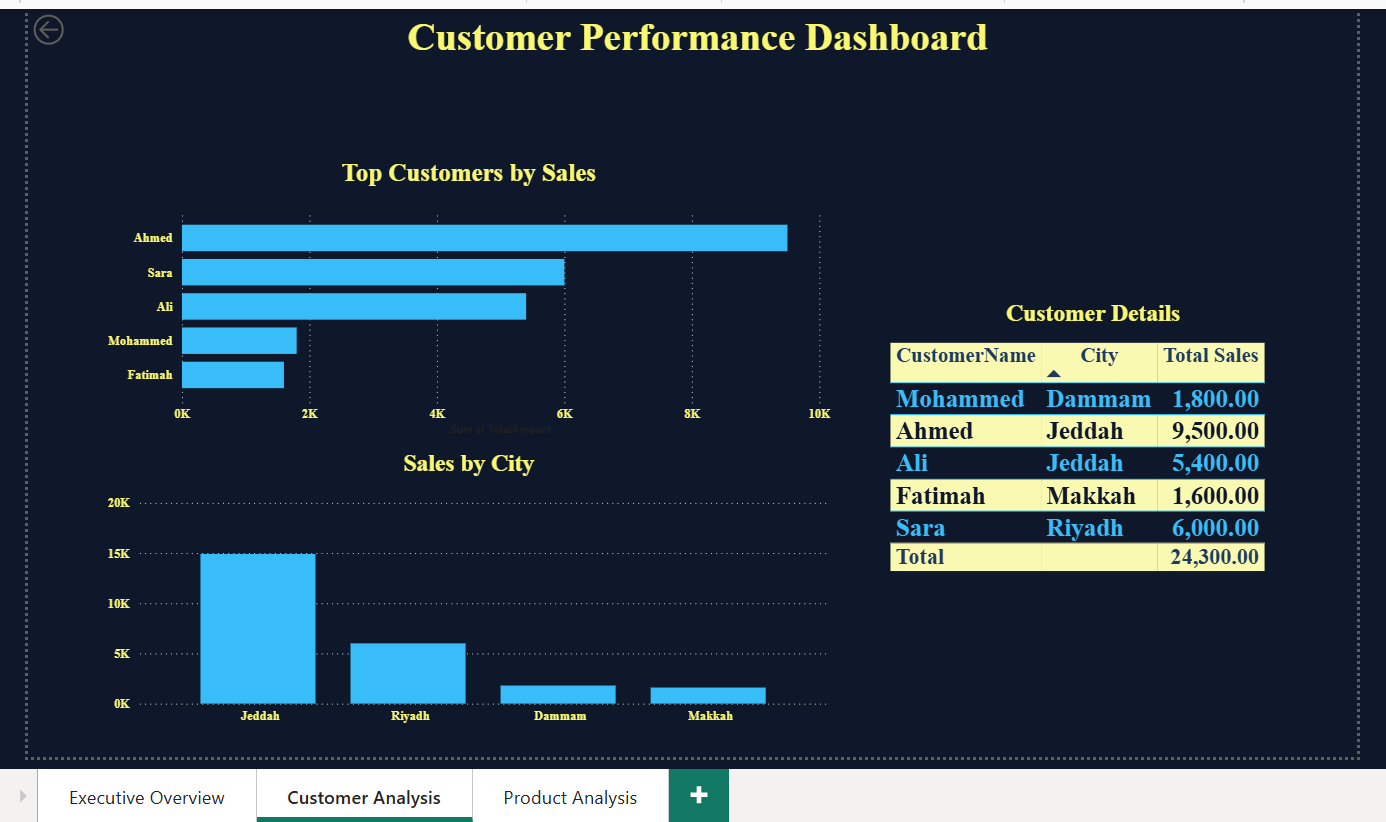

This screenshot's page, from the dashboard's own definition file:
{"tool":"powerbi","page":{"name":"Customer Analysis","canvas":[1280,720],"ordinal":1},"visuals":[{"type":"textbox","box":[10.4,0,1269.1,54.8],"z":0},{"type":"clusteredBarChart","title":"Top Customers by Sales","fields":{"Category":["Customers.CustomerName"],"Y":["Sum(Sales.TotalAmount)"]},"box":[70.7,143,706.9,271.8],"z":1},{"type":"clusteredColumnChart","title":"Sales by City","fields":{"Category":["Customers.City"],"Y":["Sum(Sales.TotalAmount)"]},"box":[70.7,425.7,706.9,271.8],"z":2},{"type":"tableEx","title":"Customer Details","fields":{"Values":["Customers.CustomerName","Customers.City","Sum(Sales.TotalAmount)"]},"box":[824.7,279.6,402.1,439.8],"z":3},{"type":"actionButton","box":[0,0,100,40],"z":4}]}

Visuals, with their boxes on the page's 1280x720 design canvas (x1, y1, x2, y2). These are canvas units, not pixel positions in the 1386x822 screenshot, which may show the page scaled, cropped or inside an application window:
textbox: crop(10, 0, 1280, 55)
"Top Customers by Sales" clusteredBarChart: crop(71, 143, 778, 415)
"Sales by City" clusteredColumnChart: crop(71, 426, 778, 698)
"Customer Details" tableEx: crop(825, 280, 1227, 719)
actionButton: crop(0, 0, 100, 40)
